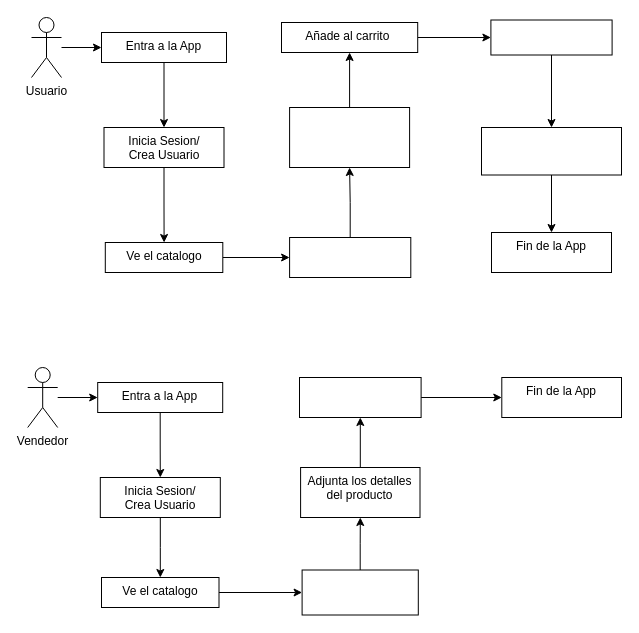
The diagram is 639 pixels wide and 633 high, and some of its shapes have lost their labels. Here are the shapes that lost their labels. From the top down, the centre of each, then its label:
(551,37): Proceso de Pago
(349,137): Detalles del producto
(551,150): Confirmación de la Compra
(350,257): Selecciona el Carro deseado
(359,397): Revisa sus estadísticas
(359,592): Anuncia un Automovil
